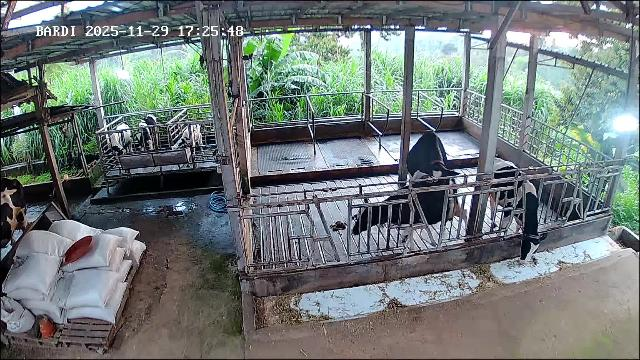mounting: (400, 131, 465, 209)
